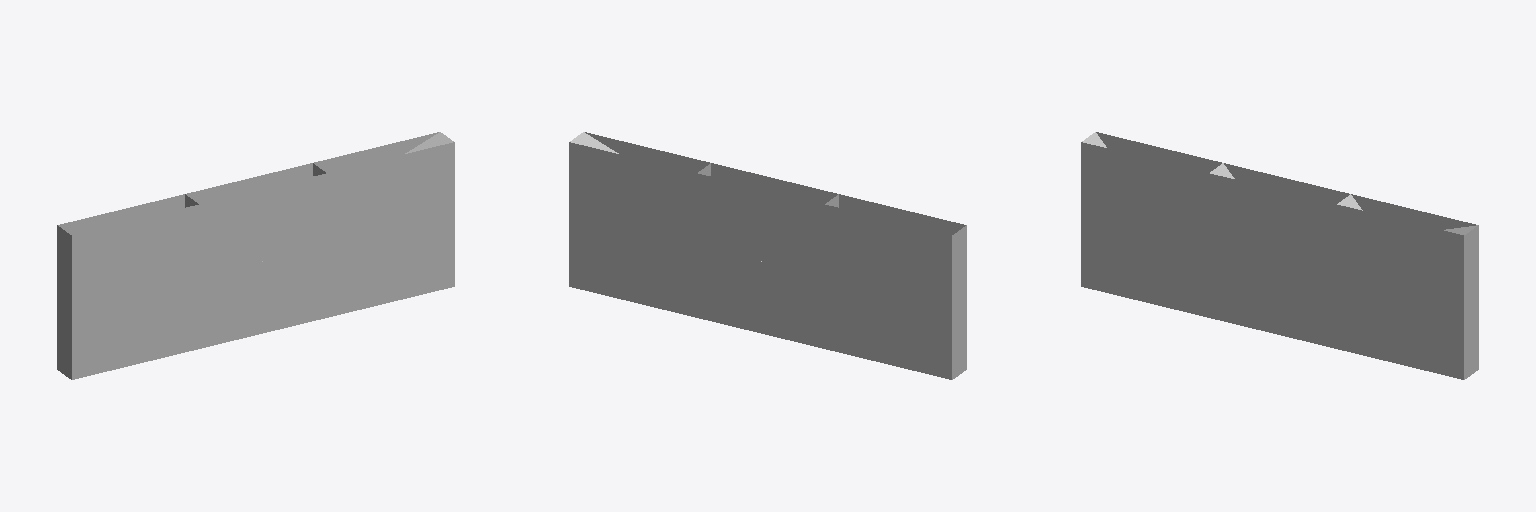
The model's file is 3d_Felwood-Pond 08.wlw.obj.
3 renders of one model, left to right at view 1: azimuth 30°, elevation 25°; view 2: azimuth 150°, elevation 25°; view 3: azimuth 330°, elevation 25°, orthographic.
Bounding box in the file's own units: 157 × 56.65 × 10.